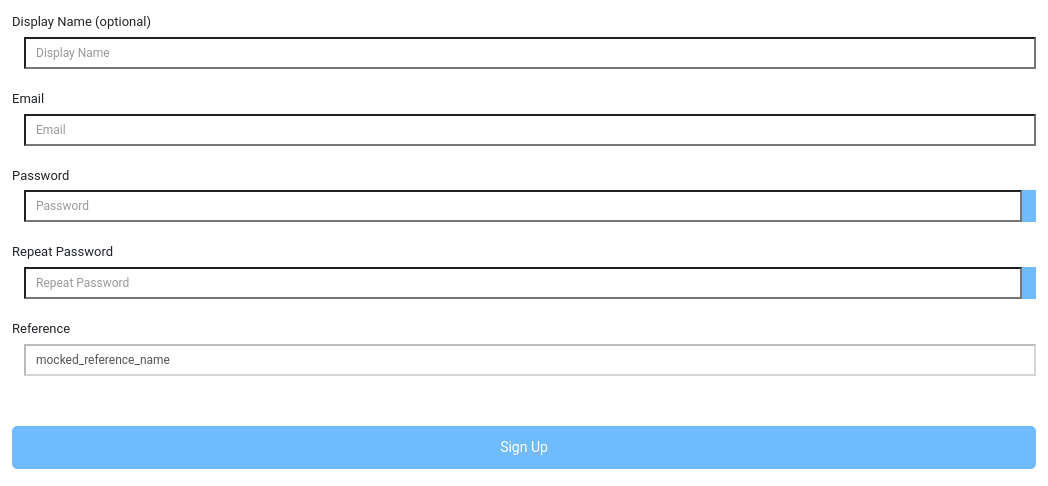
Test case: Form validation › should render "must contain 8 to 32 characters, including letter, number and special character", Password does not meet the requirement
This screenshot has width=1048, height=486.
In the field with placeholder "Display Name": (530, 53) [24, 37, 1036, 69], type "John Doe"
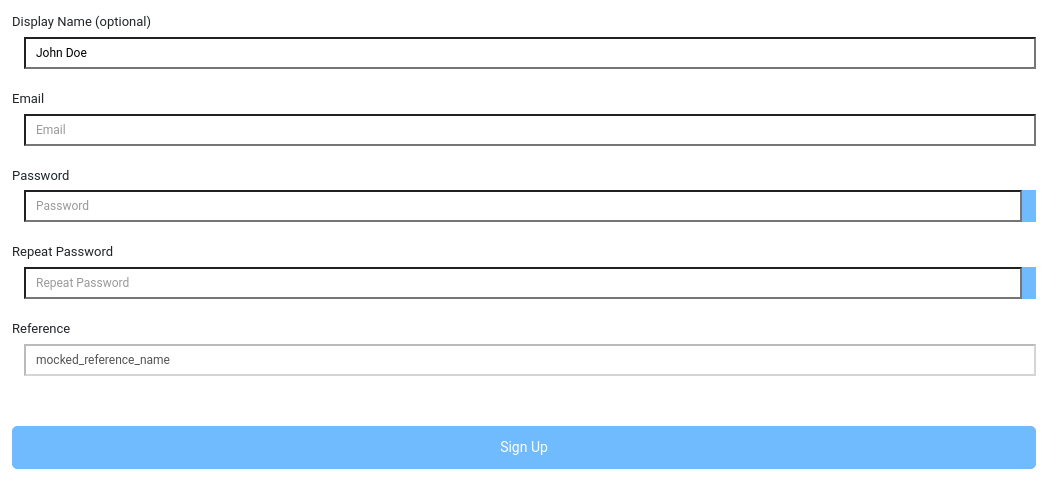
In the field with placeholder "Email": (530, 130) [24, 114, 1036, 146], type "john@example.com"
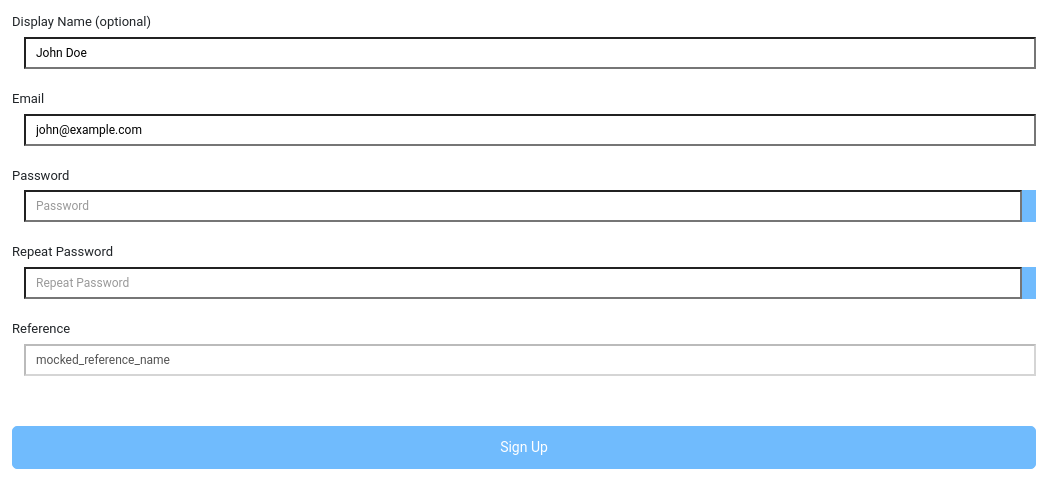
In the password field with placeholder "Password": (523, 206) [24, 190, 1022, 222], type "password123"
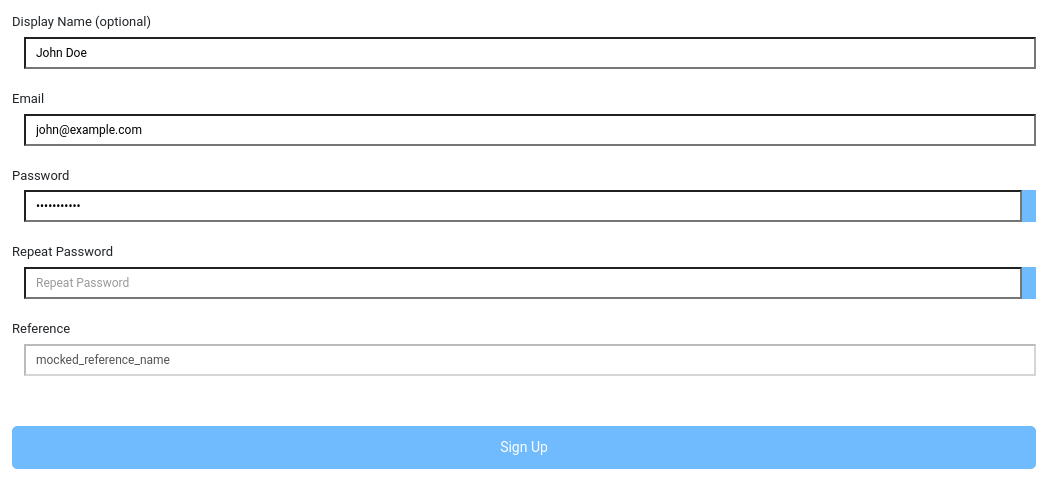
In the password field with placeholder "Repeat Password": (523, 283) [24, 267, 1022, 299], type "password123"
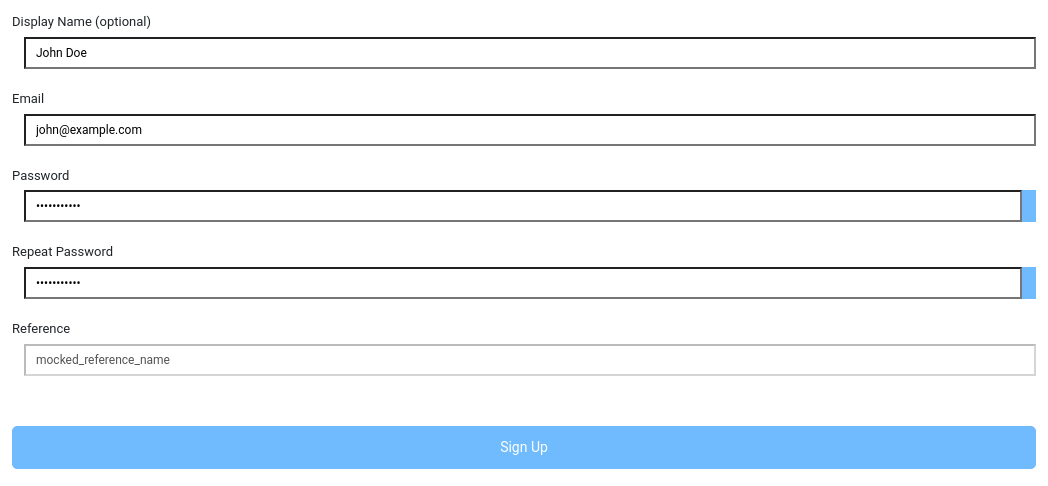
Replace the text in the field with placeholder "Reference" below "Reference" with "ref123": (530, 360) [24, 344, 1036, 376]
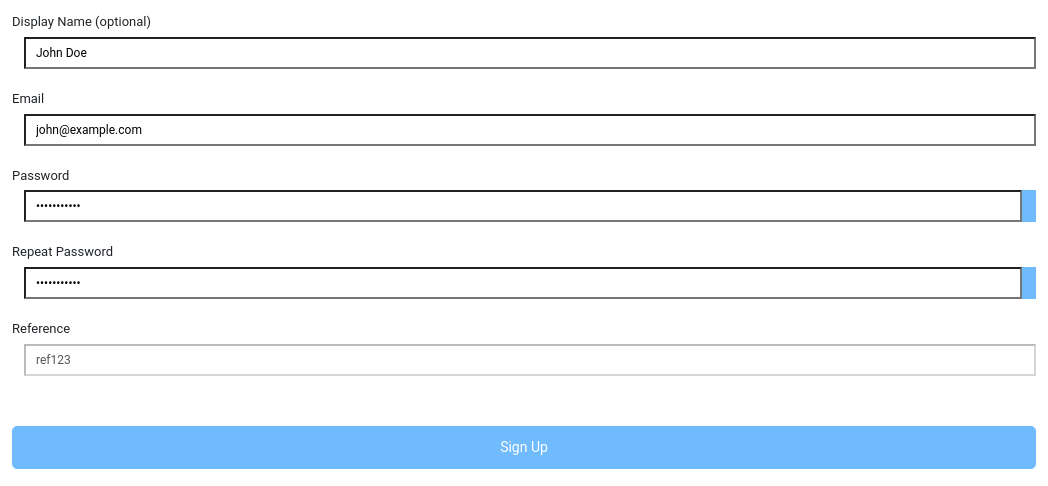
Click the button "Sign Up": (524, 448) [12, 426, 1036, 469]
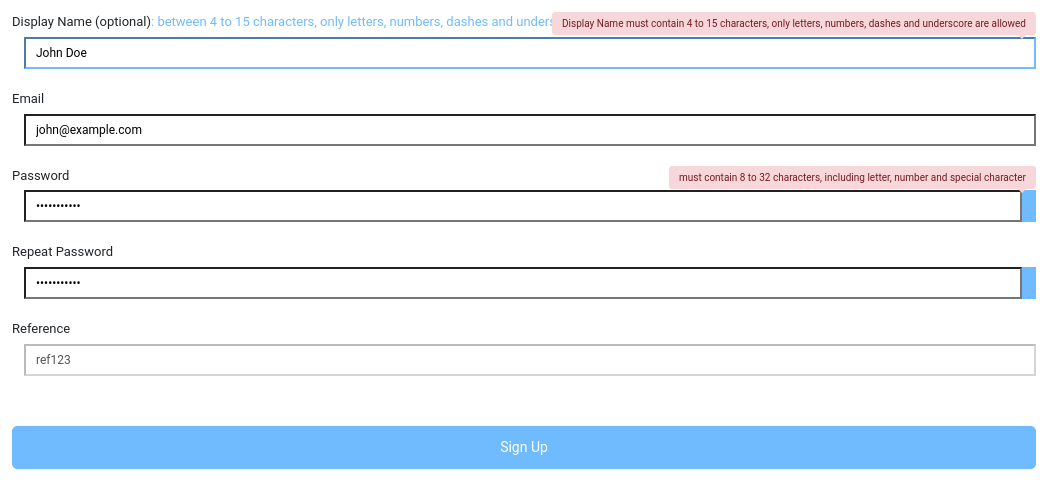
expect the text "must contain 8 to 32 characters, including letter, number and special character" is shown: met, box [669, 166, 1036, 189]
